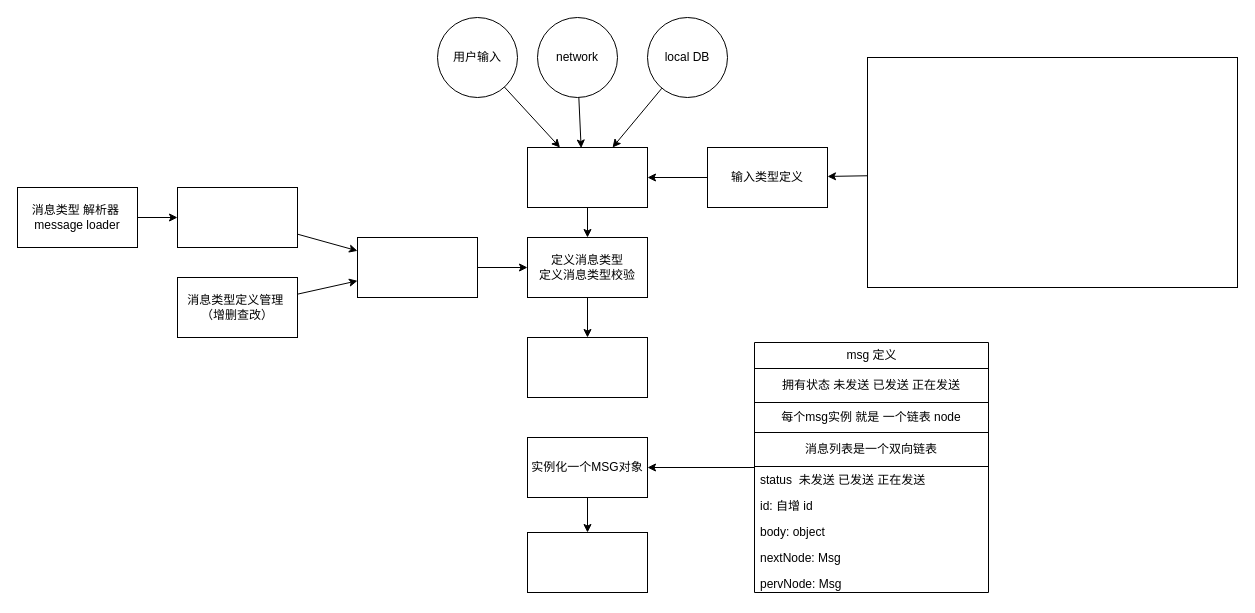
The diagram is 1255 pixels wide and 613 high, and some of its shapes have lost their labels. The centre of each missing label's shape, as x and y in pixels:
input_origin_type: 用户操作， 网络接口，本地数据库: point 1052,172
消息定义器: point 417,267
消息类型定义: point 237,217
添加到 message list controller 中: point 587,562
输入控制器: point 587,367
输入来源: point 587,177
